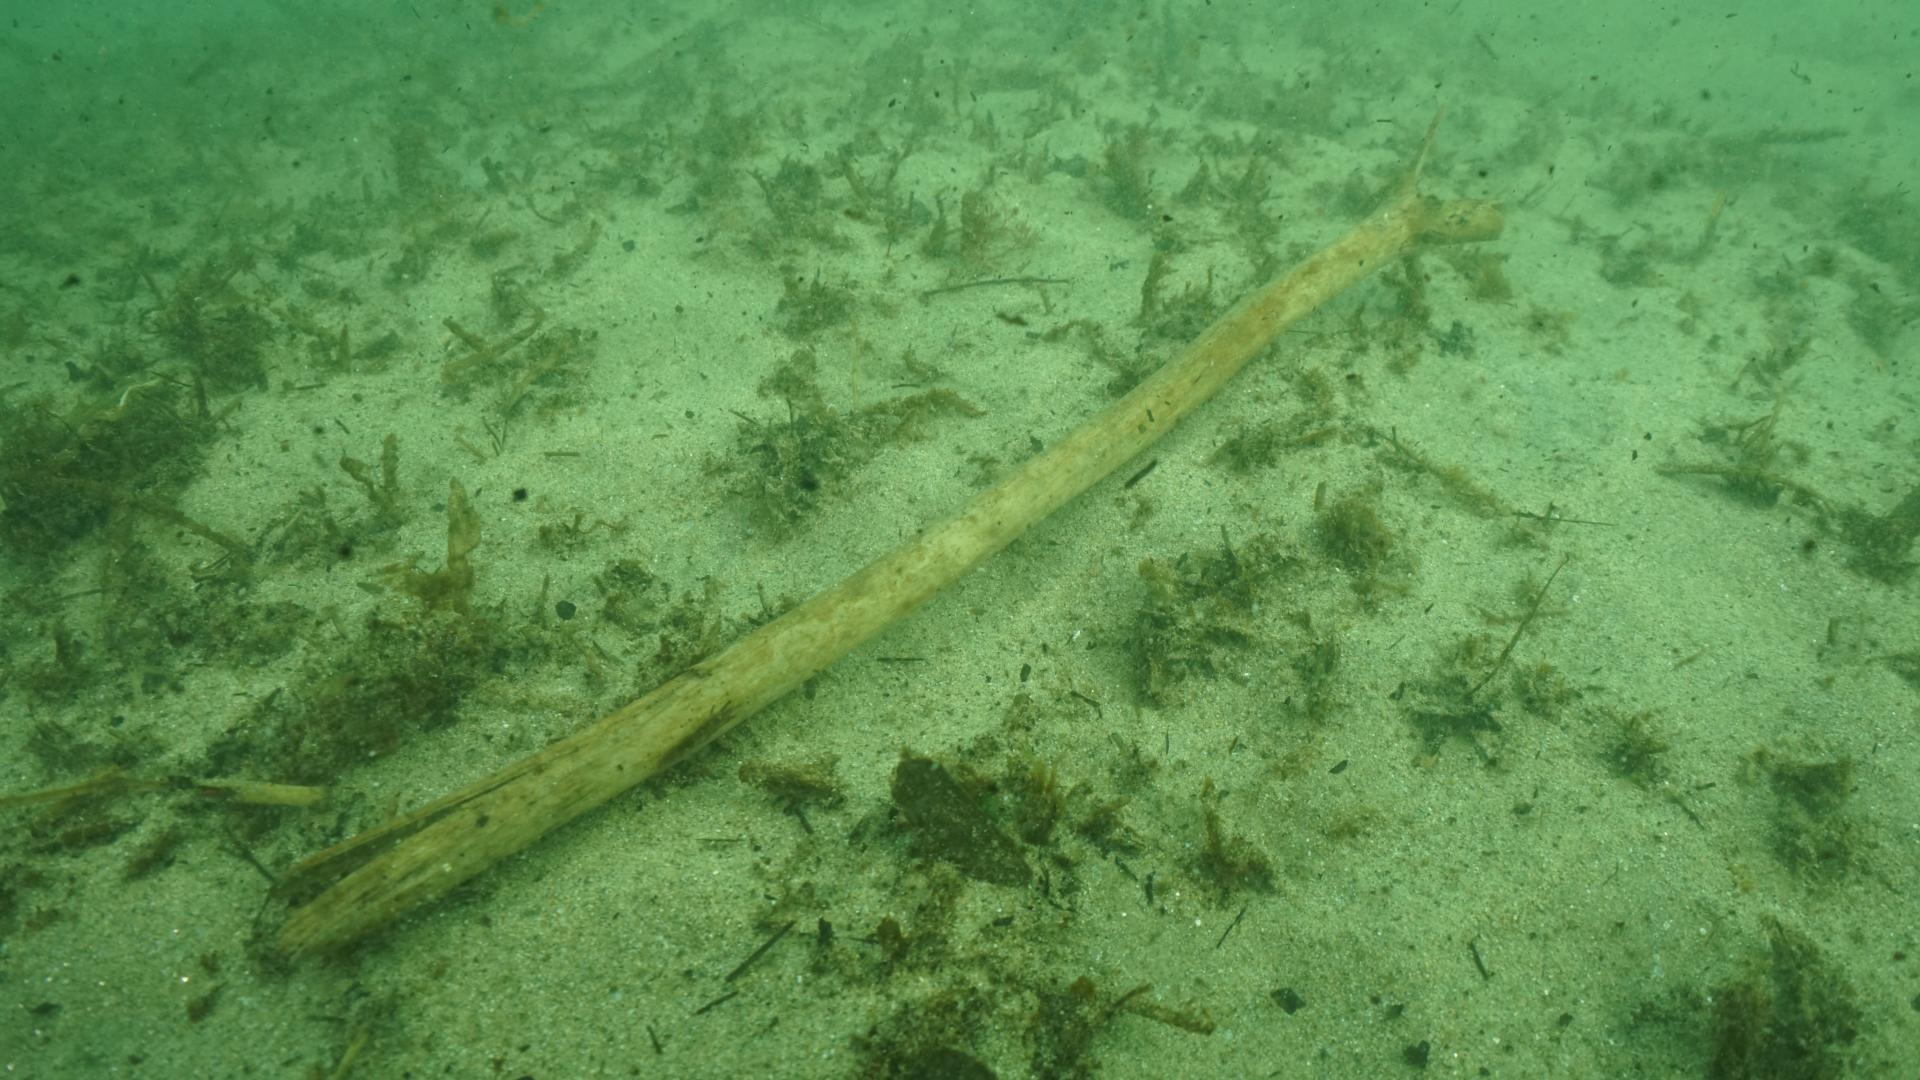wood: (241, 91, 1509, 982)
